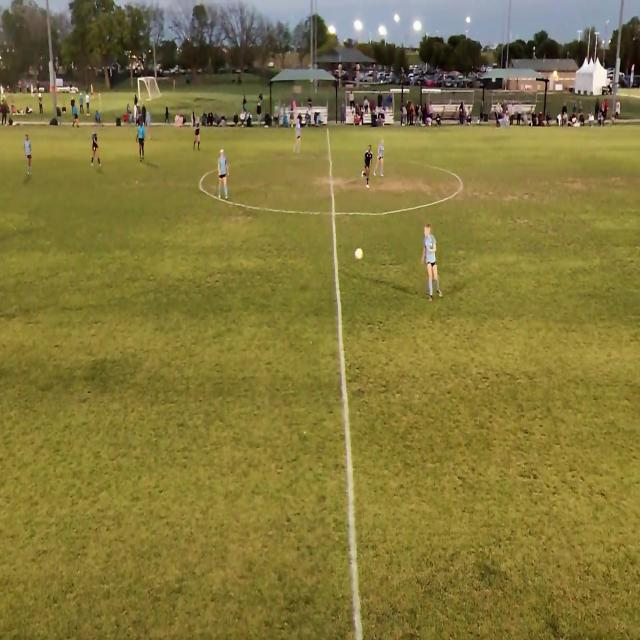ball: (354, 246, 365, 262)
team1: (361, 144, 374, 193), (92, 126, 101, 166), (195, 114, 202, 152)
team2: (422, 224, 443, 298), (217, 146, 231, 200), (376, 138, 386, 180), (24, 135, 32, 180), (295, 117, 303, 155)
